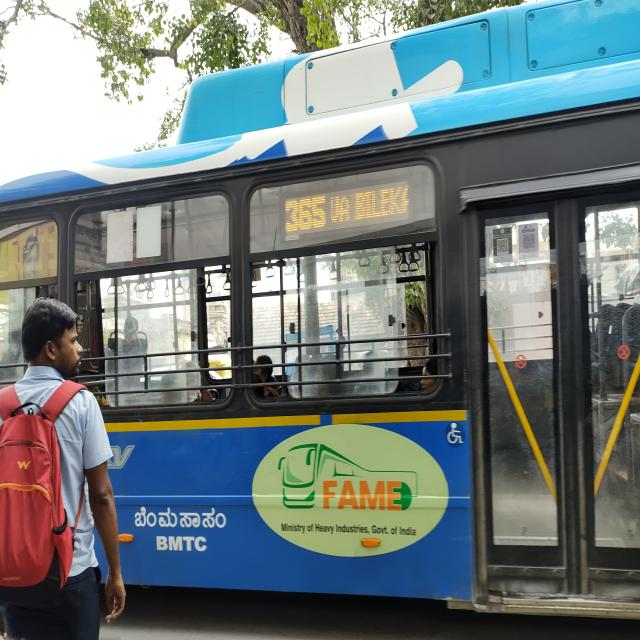bus: (0, 0, 640, 630)
display: (279, 184, 416, 235)
dnumber: (283, 196, 327, 231)
